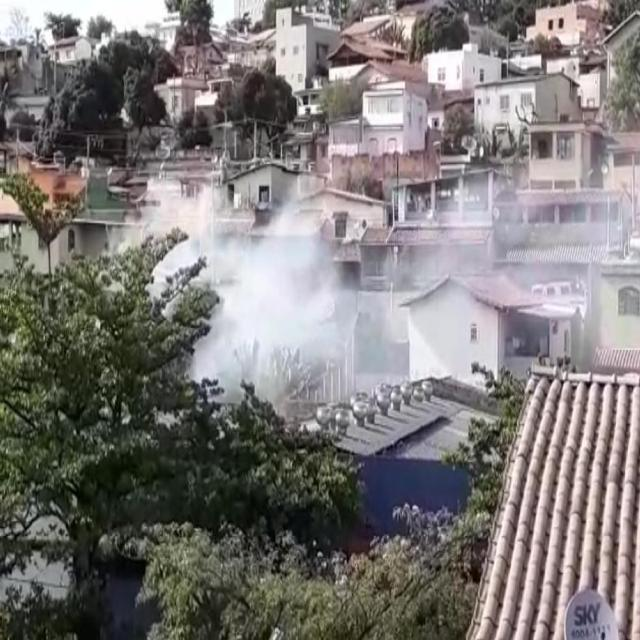Smoke: (120, 166, 377, 414), (383, 181, 640, 381)
